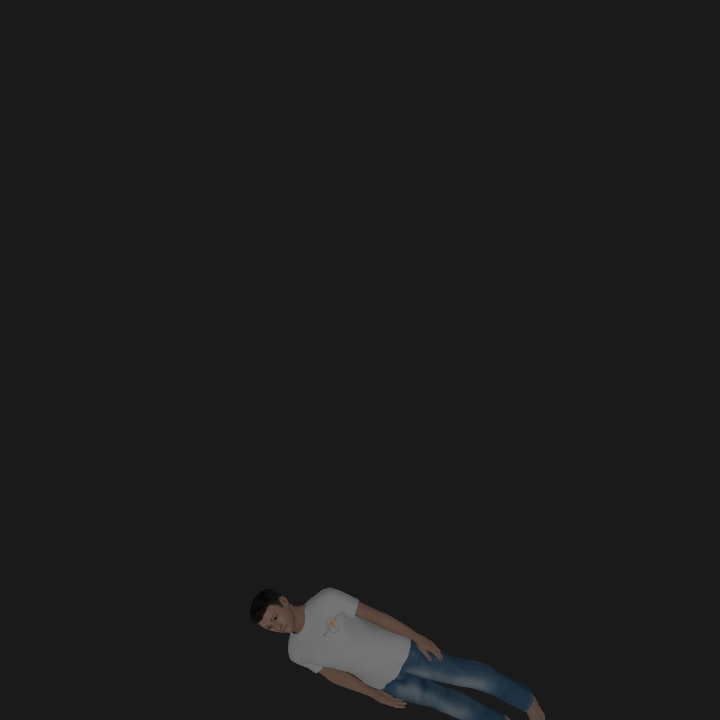victim: (250, 588, 544, 716)
